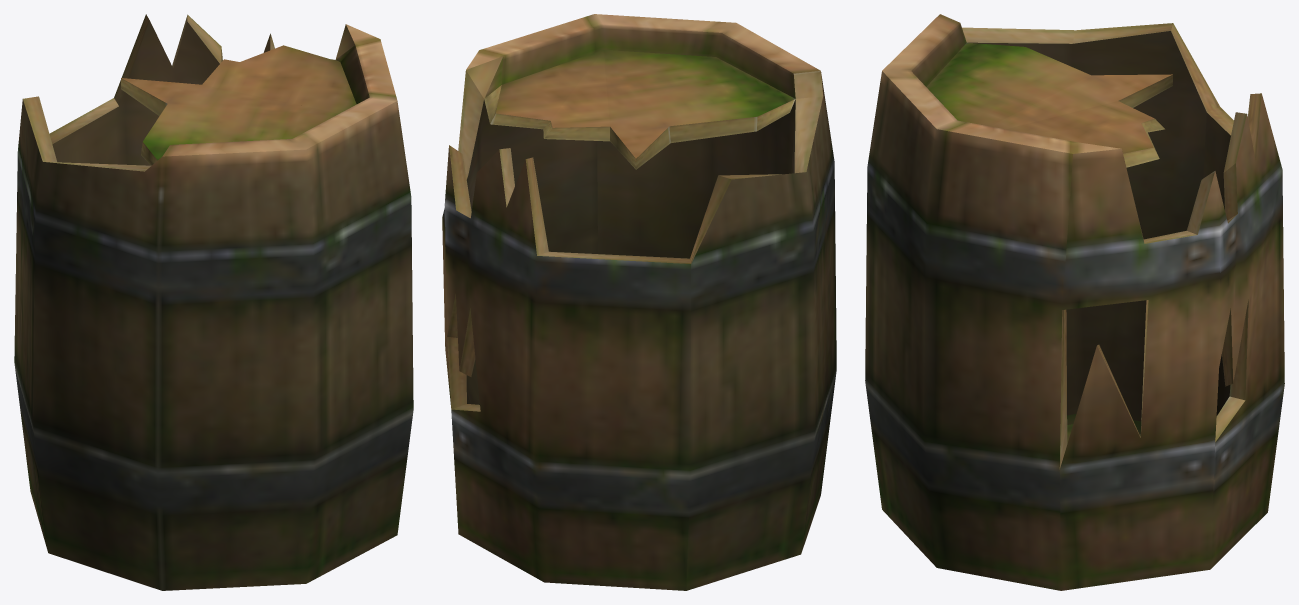
File: zc_lekesigang_yuantong02.FBX
The picture shows the model from 3 angles, left to right: view 1: azimuth 30°, elevation 25°; view 2: azimuth 150°, elevation 25°; view 3: azimuth 270°, elevation 25°; orthographic projection. The views are drawn at different scales.
Visible parts, largest first — view 1: zc_lekesigang_yuantong02; view 2: zc_lekesigang_yuantong02; view 3: zc_lekesigang_yuantong02.
Boxes of the visible parts, x1,y1,x2,y2 form: zc_lekesigang_yuantong02: [14, 14, 413, 590]; zc_lekesigang_yuantong02: [442, 14, 836, 590]; zc_lekesigang_yuantong02: [865, 14, 1284, 590].
Size of the model in its own units: 68.6 by 79.14 by 68.6.
